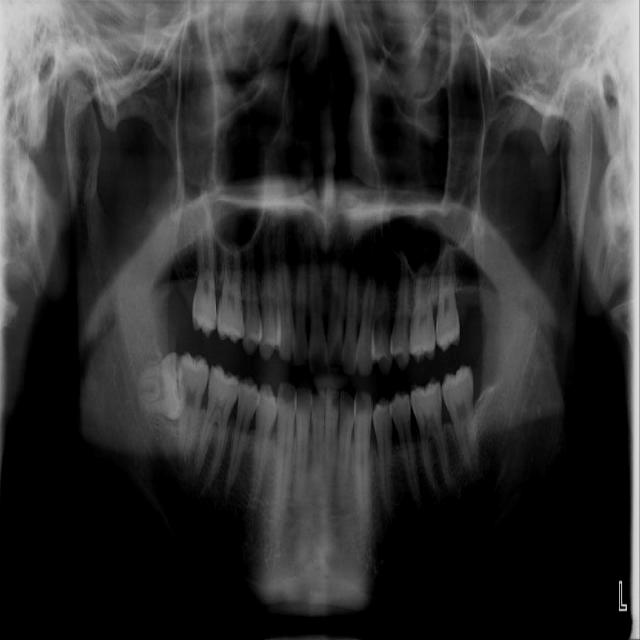impacted tooth: (135, 351, 186, 422)
